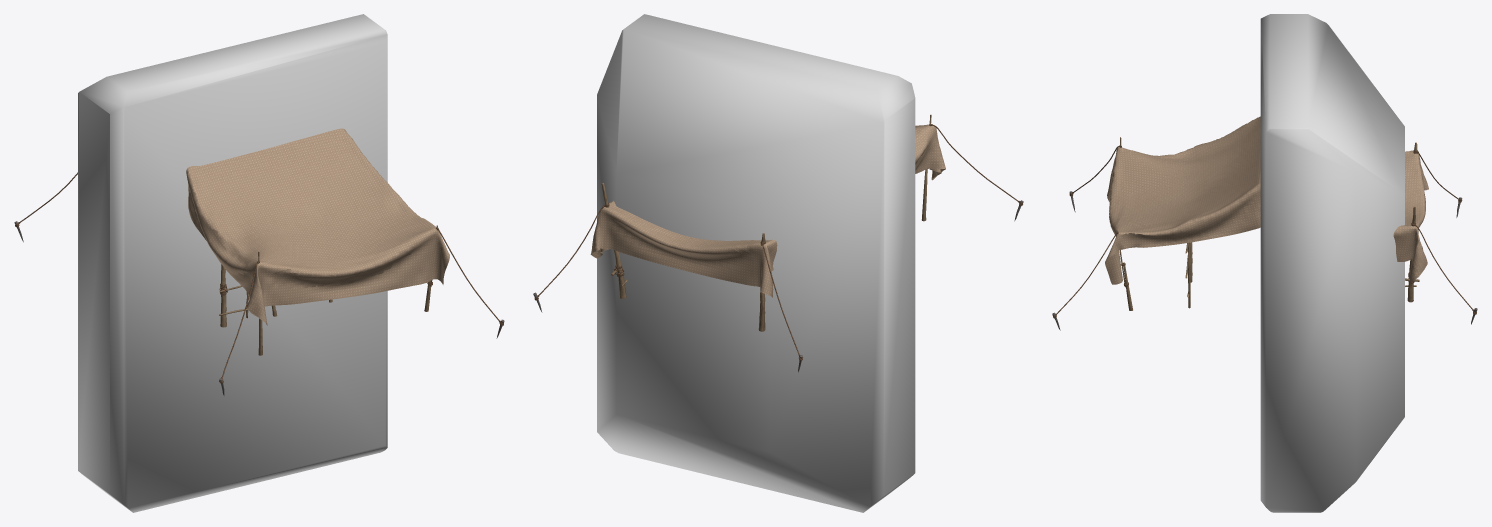
The model's file is SM_TradingTent_A.fbx.
3 views of the same model, side by side, from view 1: azimuth 30°, elevation 25°; view 2: azimuth 150°, elevation 25°; view 3: azimuth 270°, elevation 25° (orthographic). The views are drawn at different scales.
Parts seen in each view (by area): view 1: SM_TradingTent_A_ConvexHulls, SM_TradingTent_A; view 2: SM_TradingTent_A_ConvexHulls, SM_TradingTent_A; view 3: SM_TradingTent_A_ConvexHulls, SM_TradingTent_A.
Part boxes in pixels (x1,y1,x2,y2): SM_TradingTent_A_ConvexHulls: (78, 14, 387, 512); SM_TradingTent_A: (14, 128, 504, 396); SM_TradingTent_A_ConvexHulls: (597, 14, 915, 512); SM_TradingTent_A: (533, 114, 1023, 372); SM_TradingTent_A_ConvexHulls: (1260, 14, 1404, 512); SM_TradingTent_A: (1052, 116, 1477, 330).
Bounding box in the file's own units: 6.96 × 10.25 × 10.25.
